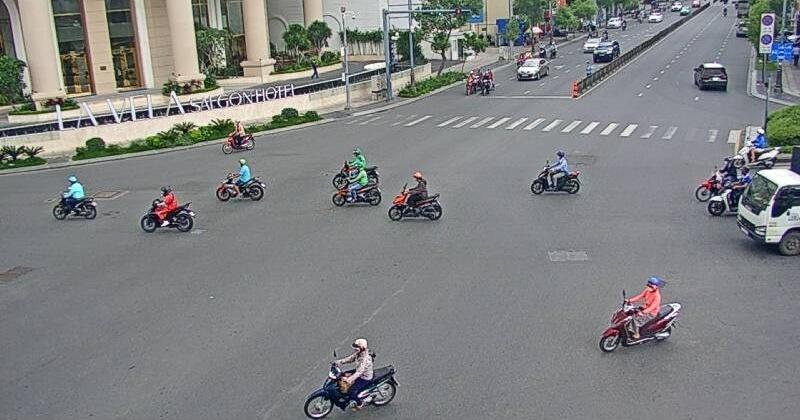xe may: (304, 334, 395, 420), (600, 275, 678, 354), (389, 169, 445, 222), (139, 182, 193, 233), (213, 157, 263, 204), (329, 163, 379, 210), (529, 151, 581, 195), (220, 118, 254, 154)
